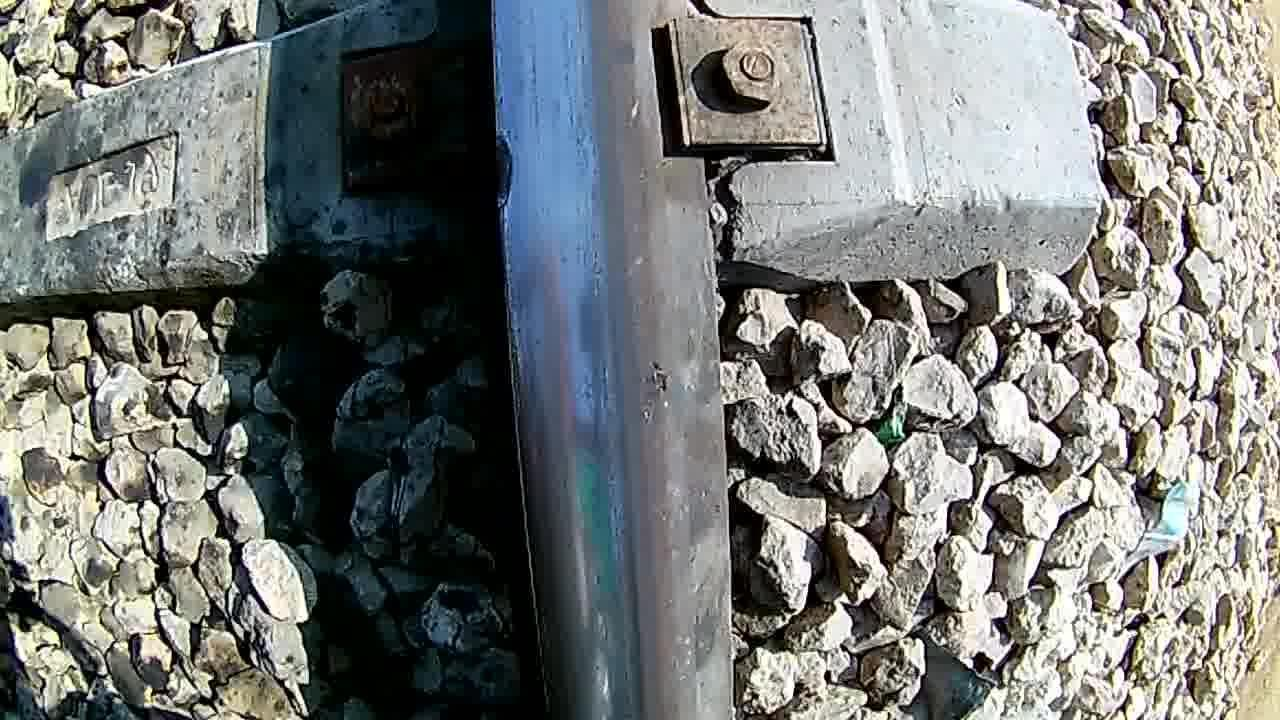crack: (506, 0, 689, 720)
